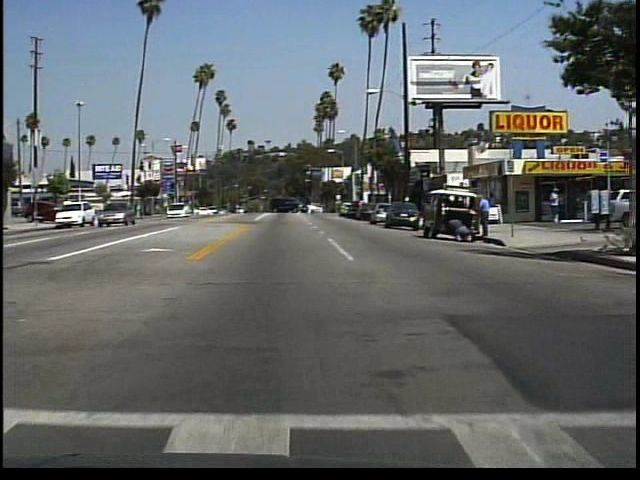person: (477, 190, 497, 240), (547, 186, 564, 227), (448, 216, 471, 245)
